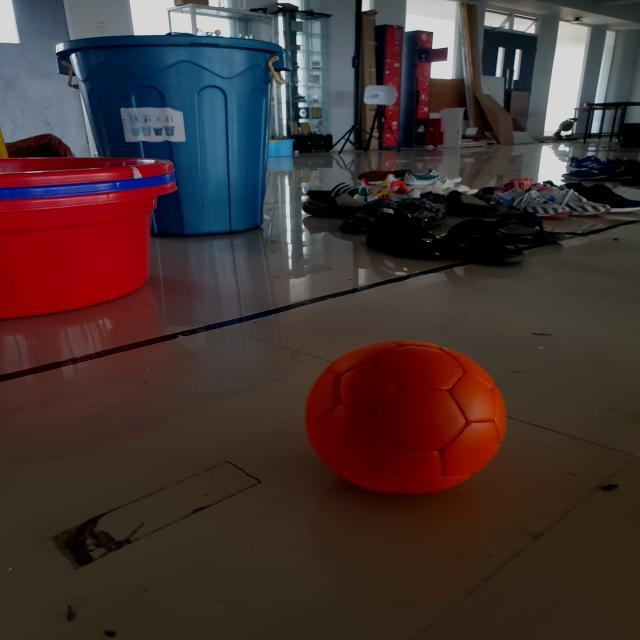bola: (301, 340, 511, 500)
